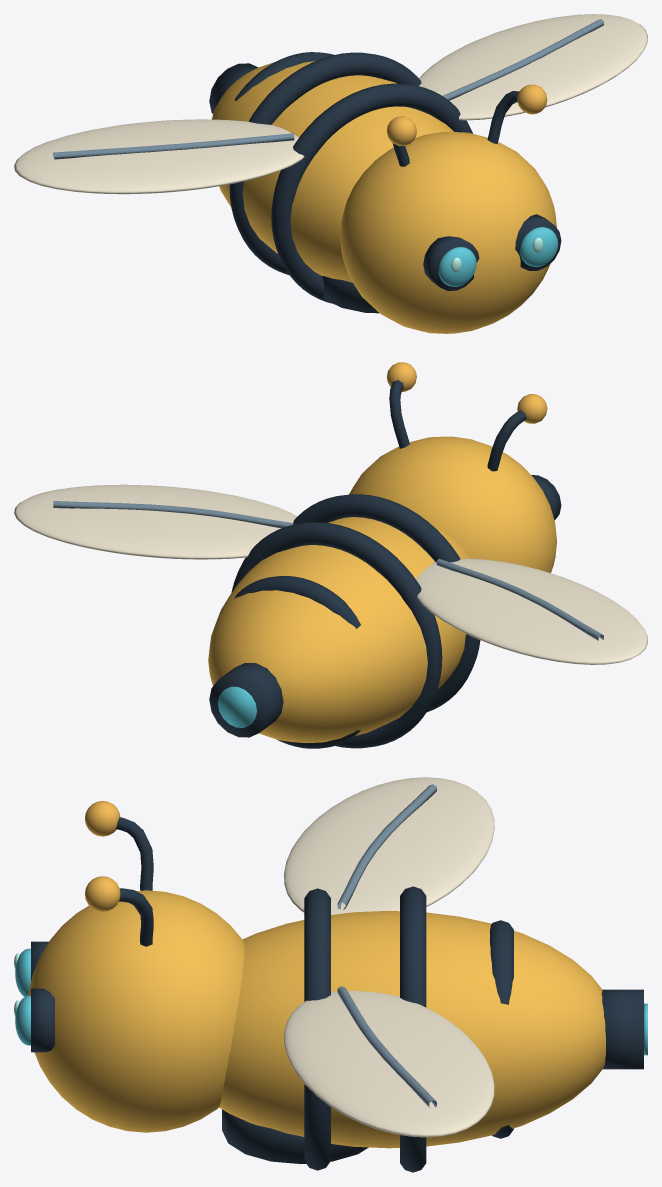
File: bee.glb
3 renders of one model, top to bottom at view 1: azimuth 30°, elevation 25°; view 2: azimuth 150°, elevation 25°; view 3: azimuth 270°, elevation 25°, orthographic. The views are drawn at different scales.
Parts seen in each view (by area): view 1: BodyMesh, WingLeftMesh, WingRightMesh; view 2: BodyMesh, WingLeftMesh, WingRightMesh; view 3: BodyMesh, WingRightMesh, WingLeftMesh.
Boxes of the visible parts, x1,y1,x2,y2 form: BodyMesh: (209, 52, 561, 333); WingLeftMesh: (14, 119, 304, 194); WingRightMesh: (419, 14, 647, 120); BodyMesh: (208, 362, 561, 748); WingLeftMesh: (416, 558, 647, 664); WingRightMesh: (14, 484, 297, 559); BodyMesh: (14, 801, 647, 1172); WingRightMesh: (284, 986, 494, 1137); WingLeftMesh: (284, 777, 494, 914).
Size of the model in its own units: 2.13 by 0.885 by 1.59.
